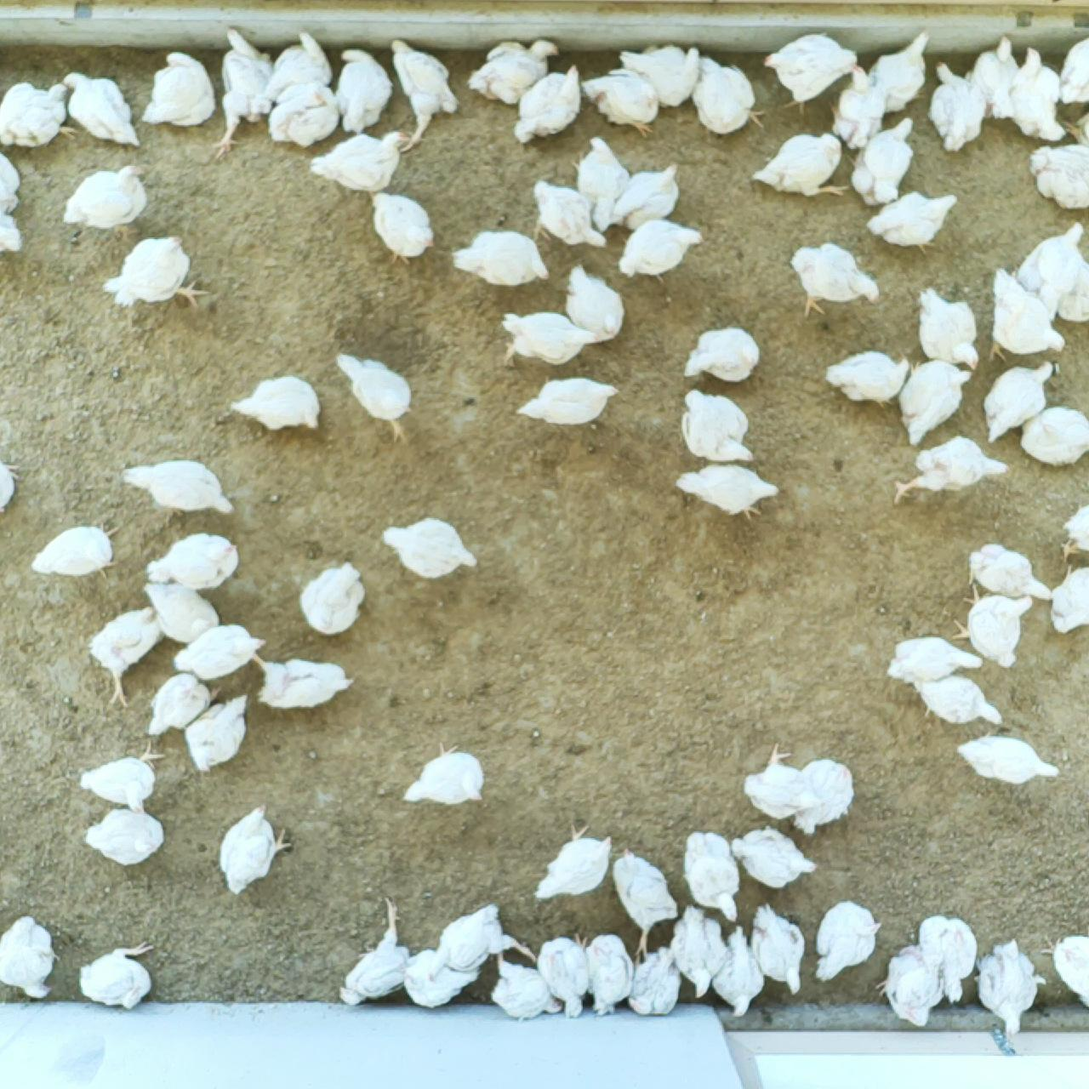chicken: (334, 895, 423, 1008), (210, 25, 278, 163), (426, 903, 538, 985), (384, 37, 463, 153), (893, 433, 1015, 507), (102, 233, 208, 315), (1006, 219, 1088, 324), (88, 604, 167, 710), (971, 935, 1047, 1044), (335, 348, 417, 445), (987, 263, 1068, 360), (610, 847, 682, 956), (762, 32, 857, 114), (891, 358, 976, 448), (680, 47, 765, 136), (216, 801, 294, 897), (741, 739, 830, 820), (121, 455, 235, 518), (675, 459, 781, 525), (748, 131, 849, 200), (978, 358, 1058, 445), (952, 582, 1032, 669), (307, 130, 415, 194), (788, 238, 881, 312), (465, 36, 560, 108), (381, 513, 478, 583), (60, 164, 151, 238), (846, 116, 919, 207), (533, 822, 615, 902), (137, 49, 215, 133), (876, 943, 950, 1031), (59, 70, 141, 149), (567, 136, 631, 237), (77, 744, 168, 815), (401, 740, 489, 813), (869, 189, 964, 256), (911, 912, 978, 1006), (258, 26, 332, 111), (679, 829, 745, 924), (1003, 46, 1065, 147), (450, 226, 551, 288), (501, 306, 602, 368), (616, 43, 704, 114), (864, 28, 935, 116), (679, 383, 755, 465), (578, 67, 661, 142), (529, 174, 608, 252), (955, 729, 1061, 787), (229, 373, 328, 435), (745, 900, 808, 997), (667, 903, 730, 1000), (252, 653, 357, 711), (514, 376, 623, 431), (824, 60, 887, 155), (813, 898, 882, 984), (331, 44, 394, 138), (30, 518, 124, 581), (0, 79, 80, 153), (515, 60, 583, 146), (362, 185, 435, 265), (169, 623, 271, 680), (905, 671, 1005, 729), (182, 691, 251, 775), (617, 217, 703, 284), (533, 931, 597, 1021), (961, 33, 1024, 124), (79, 939, 157, 1012), (915, 285, 981, 371), (709, 924, 768, 1020), (731, 827, 818, 891), (965, 540, 1053, 603), (783, 758, 855, 835), (926, 60, 985, 153), (399, 947, 486, 1010), (147, 672, 228, 739), (575, 931, 637, 1018), (0, 913, 60, 1002), (263, 82, 342, 148), (81, 807, 166, 868), (564, 261, 626, 344), (141, 580, 222, 642), (300, 560, 364, 638), (145, 534, 241, 586), (680, 324, 761, 385), (1012, 402, 1089, 466), (613, 161, 682, 232), (489, 954, 563, 1020), (825, 347, 905, 408), (888, 636, 985, 686), (1024, 140, 1089, 214), (1037, 931, 1089, 1019), (622, 946, 684, 1017), (1037, 252, 1089, 328), (1046, 31, 1089, 115), (1047, 562, 1089, 634), (1047, 104, 1089, 163), (1060, 500, 1089, 562), (0, 453, 25, 517), (0, 199, 24, 264), (0, 145, 22, 214)
